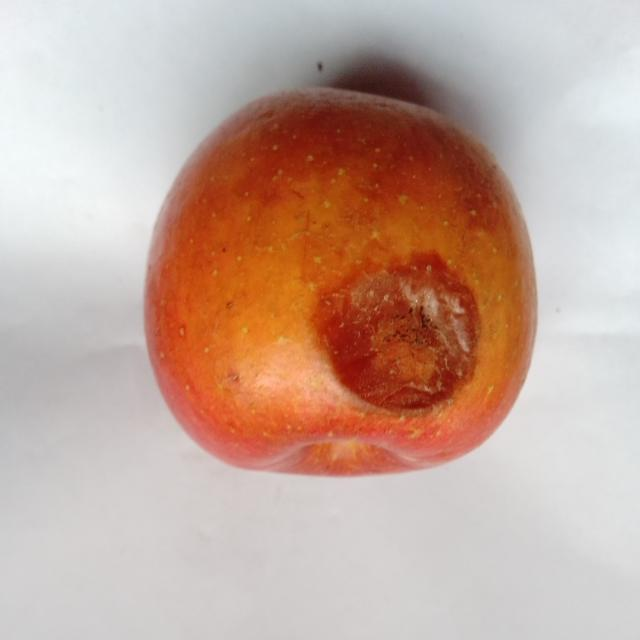apple: (146, 89, 536, 474)
